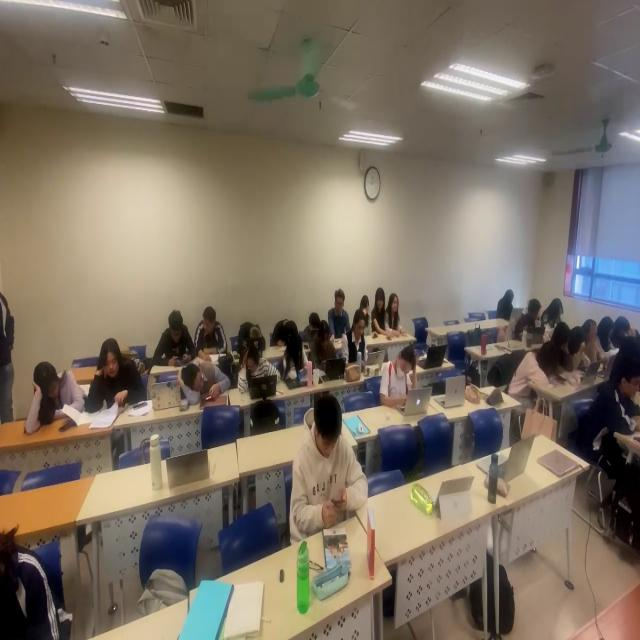raise_head: (328, 285, 351, 342), (373, 282, 390, 341), (388, 283, 405, 335)
read: (84, 330, 149, 433)
sleep: (23, 359, 85, 441), (509, 339, 560, 406), (177, 357, 231, 406), (272, 314, 303, 350), (237, 319, 267, 353), (301, 302, 322, 343)
using_computer: (379, 343, 431, 412), (555, 319, 600, 387), (237, 339, 283, 402), (348, 309, 387, 375), (311, 319, 348, 383), (519, 288, 548, 348), (497, 283, 522, 322)
using_phone: (287, 390, 371, 546), (156, 310, 197, 369), (281, 325, 313, 387)
